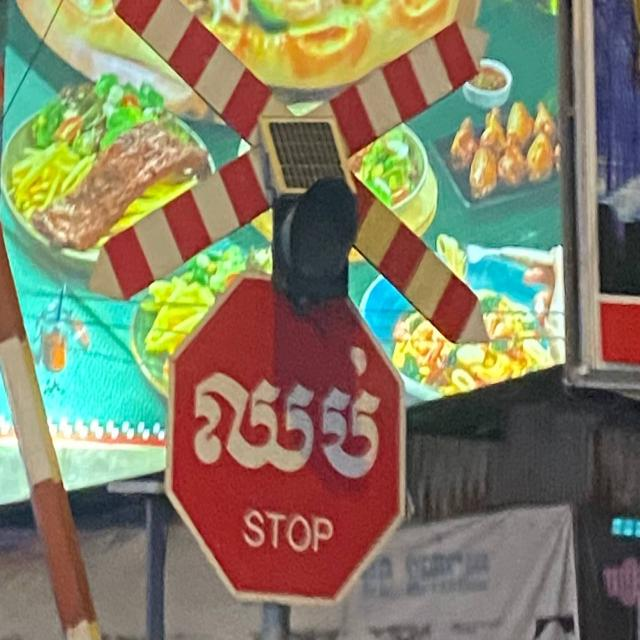Yolov11kh: (189, 334, 386, 492)
